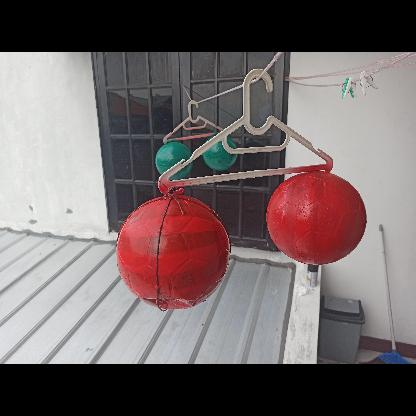red_ball: (115, 196, 226, 308), (268, 168, 364, 264)
